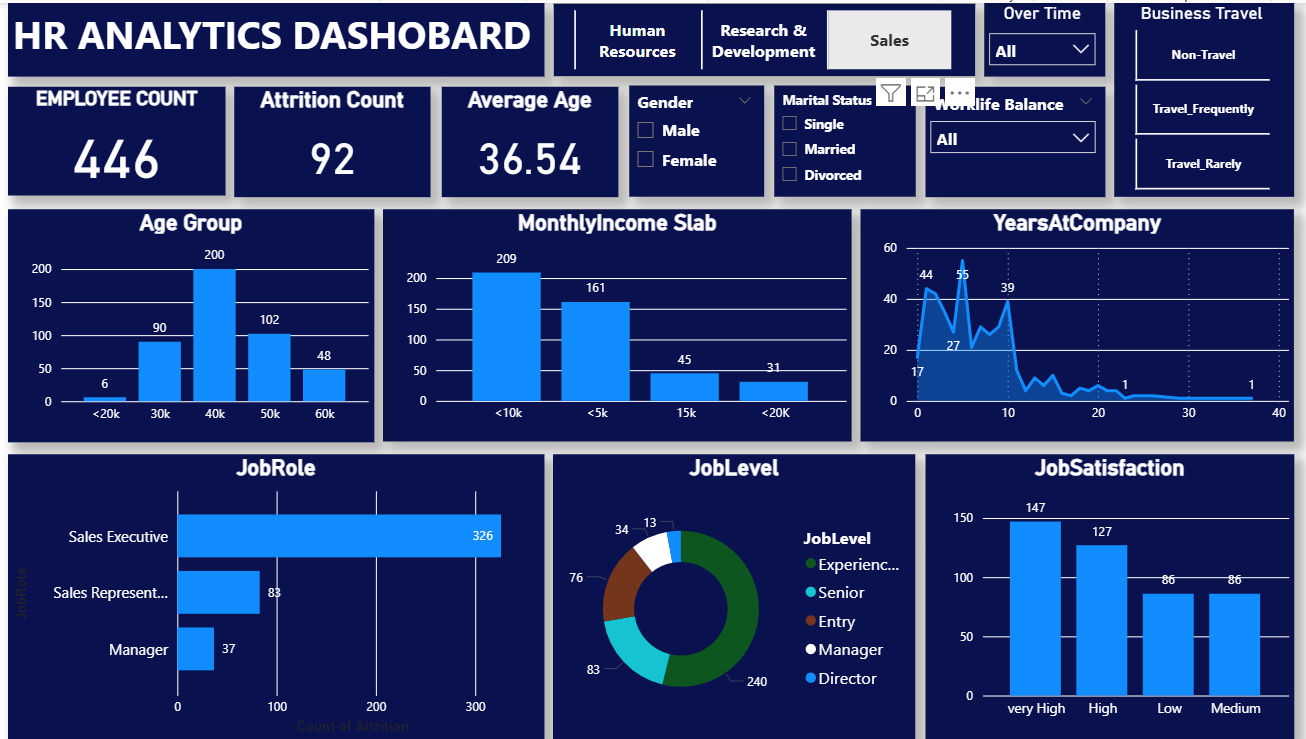

The page's visual inventory and layout, read from the dashboard file:
{"tool":"powerbi","page":{"name":"Page 1","canvas":[1280,720],"ordinal":0},"visuals":[{"type":"textbox","box":[9.8,0,524.6,72.1],"z":0},{"type":"card","title":"EMPLOYEE COUNT","fields":{"Values":["CountNonNull(cleaned_data.EmployeeNumber)"]},"box":[9.8,81.9,212.8,106.4],"z":1000},{"type":"slicer","fields":{"Values":["cleaned_data.Department"]},"box":[542.9,0,413.3,72.1],"z":2000},{"type":"card","title":"Attrition Count","fields":{"Values":["cleaned_data.attrition_countyes"]},"box":[231.1,81.9,192,107.6],"z":3000},{"type":"columnChart","title":"MonthlyIncome Slab","fields":{"Category":["cleaned_data.monthlyincomesalb"],"Y":["CountNonNull(cleaned_data.Attrition)"]},"box":[376.6,201.8,458.6,227.4],"z":4000},{"type":"columnChart","title":"Age Group","fields":{"Y":["CountNonNull(cleaned_data.Attrition)"],"Category":["cleaned_data.agegrp"]},"box":[9.6,201.7,358.1,227.8],"z":5000},{"type":"clusteredBarChart","title":"JobRole","fields":{"Category":["cleaned_data.JobRole"],"Y":["CountNonNull(cleaned_data.Attrition)"]},"box":[9.8,441.4,524.6,278.8],"z":6000},{"type":"slicer","fields":{"Values":["cleaned_data.Gender"]},"box":[617.5,80.7,132.1,108.8],"z":7000},{"type":"donutChart","title":"JobLevel","fields":{"Y":["CountNonNull(cleaned_data.Attrition)"],"Category":["cleaned_data.JobLevel"]},"box":[542.9,441.4,354.6,278.8],"z":8000},{"type":"columnChart","title":"JobSatisfaction","fields":{"Y":["CountNonNull(cleaned_data.Attrition)"],"Category":["cleaned_data.jbs_grp"]},"box":[907.3,441.4,360.7,278.8],"z":9000},{"type":"slicer","fields":{"Values":["cleaned_data.MaritalStatus"]},"box":[759.4,80.7,138.2,108.8],"z":10000},{"type":"slicer","title":"Business Travel","fields":{"Values":["cleaned_data.BusinessTravel"]},"box":[1092,0,176.1,189.5],"z":11000},{"type":"areaChart","title":"YearsAtCompany","fields":{"Category":["cleaned_data.YearsAtCompany"],"Y":["CountNonNull(cleaned_data.Attrition)"]},"box":[843.8,201.8,424.3,227.4],"z":12000},{"type":"slicer","title":"Over Time","fields":{"Values":["cleaned_data.OverTime"]},"box":[964.8,0,118.6,72.1],"z":13000},{"type":"slicer","fields":{"Values":["cleaned_data.WorkLifeBalance","cleaned_data.Attrition"]},"box":[907.3,81.9,176.1,107.6],"z":15000},{"type":"card","title":"Average Age","fields":{"Values":["Avg(cleaned_data.Age)"]},"box":[434.1,81.9,172.4,107.6],"z":16000}]}

Visuals, with their boxes in screenshot pixels (x1, y1, x2, y2), scaled from the page's 1280x720 canvas onto the 1306x739 screenshot:
textbox: <box>10,0,545,74</box>
"EMPLOYEE COUNT" card: <box>10,84,227,193</box>
slicer - cleaned_data.Department: <box>554,0,976,74</box>
"Attrition Count" card: <box>236,84,432,195</box>
"MonthlyIncome Slab" columnChart: <box>384,207,852,441</box>
"Age Group" columnChart: <box>10,207,375,441</box>
"JobRole" clusteredBarChart: <box>10,453,545,738</box>
slicer - cleaned_data.Gender: <box>630,83,765,195</box>
"JobLevel" donutChart: <box>554,453,916,738</box>
"JobSatisfaction" columnChart: <box>926,453,1294,738</box>
slicer - cleaned_data.MaritalStatus: <box>775,83,916,195</box>
"Business Travel" slicer: <box>1114,0,1294,195</box>
"YearsAtCompany" areaChart: <box>861,207,1294,441</box>
"Over Time" slicer: <box>984,0,1105,74</box>
slicer - cleaned_data.WorkLifeBalance x cleaned_data.Attrition: <box>926,84,1105,195</box>
"Average Age" card: <box>443,84,619,195</box>
